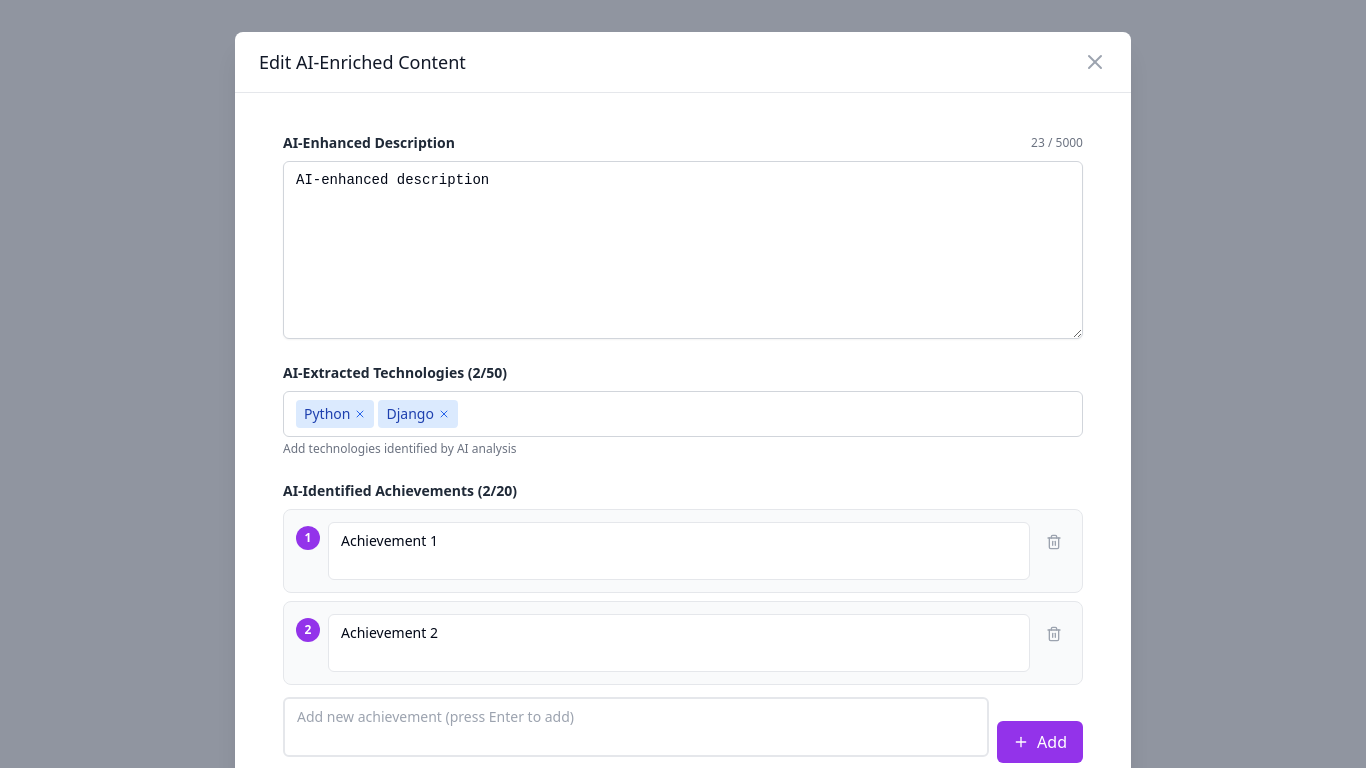
EnrichedContentEditor › trims whitespace when adding achievement
The image size is (1366, 768).
Type "   Trimmed achievement   " into the text box with placeholder "Add new achievement (press Enter to add)" at (636, 727), box x1=283 y1=697 x2=989 y2=757
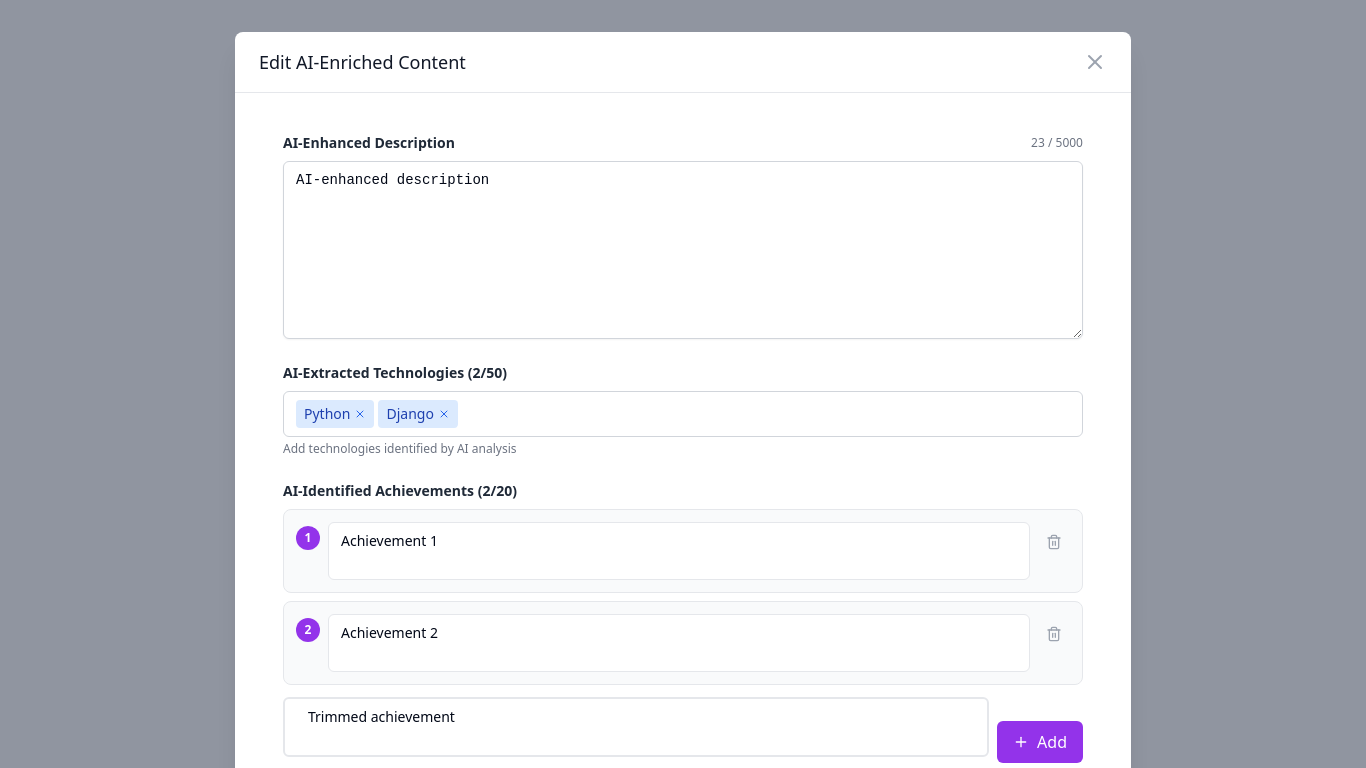
Click the button "Add" at (1040, 742), box x1=997 y1=721 x2=1083 y2=763
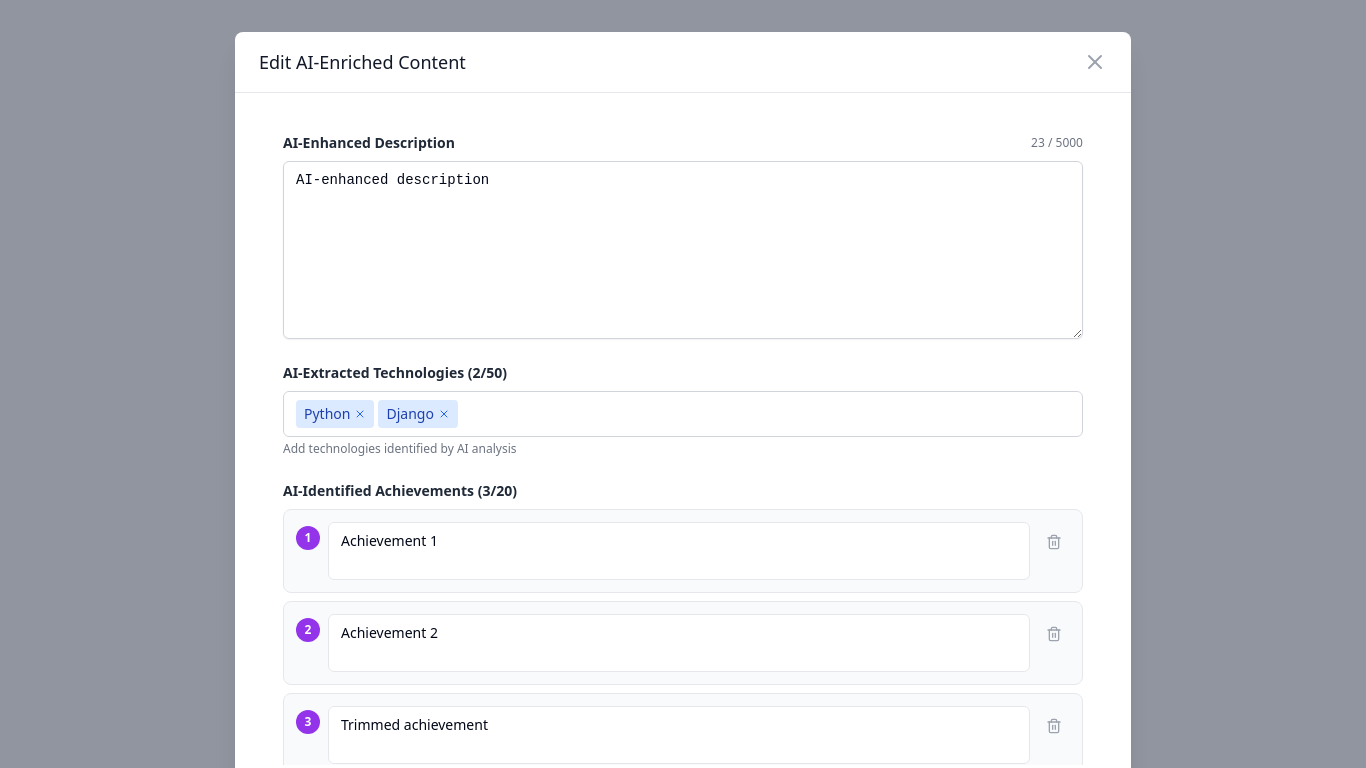
Now the 4th text box showing "Trimmed achievement" is shown, box x1=328 y1=706 x2=1030 y2=764
